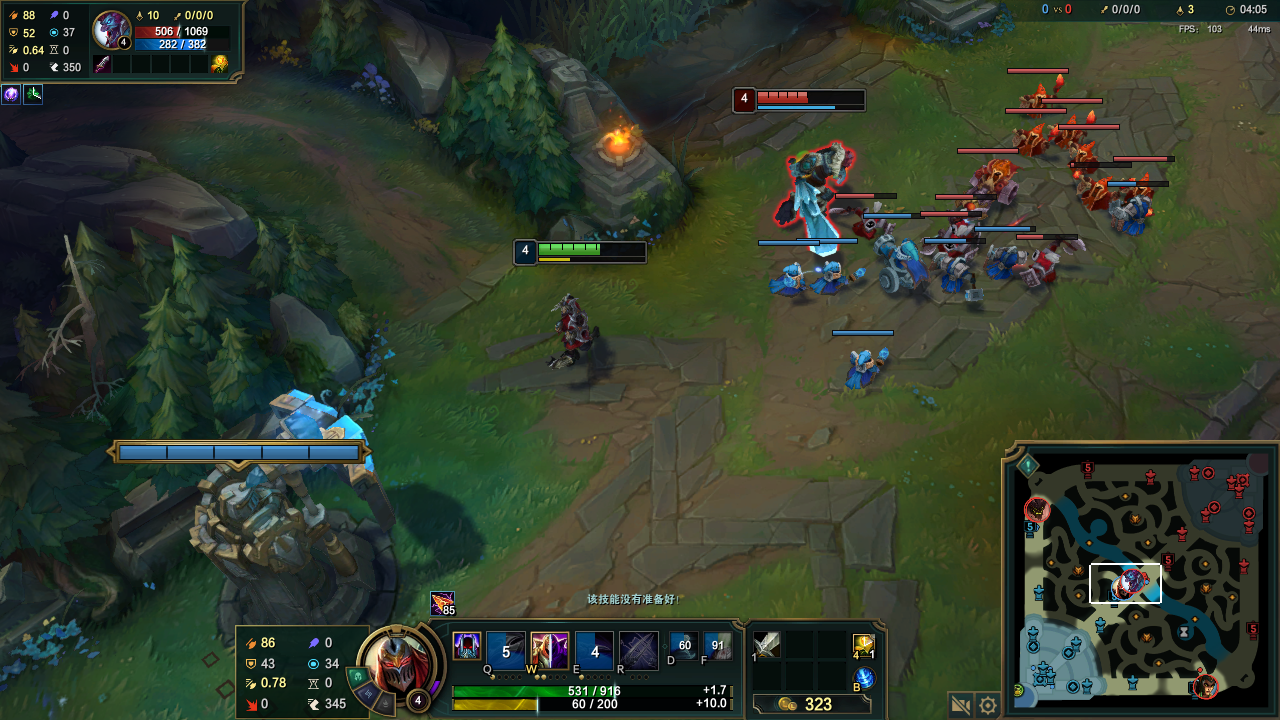DFYX: (753, 87, 868, 112)
WFXB: (869, 232, 932, 300)
